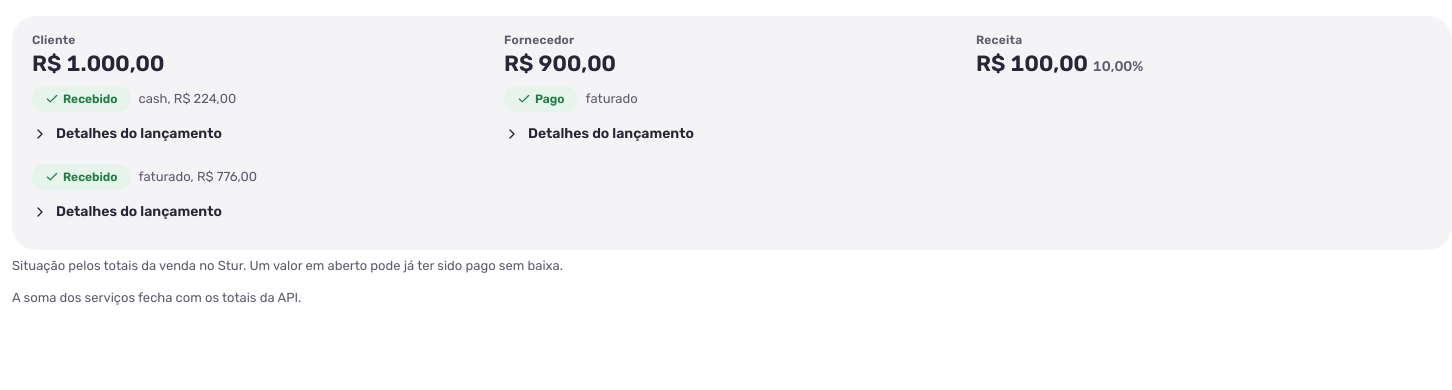
it: lançamentos › os detalhes não repetem o que a linha já mostra
Click the heading "Detalhes do lançamento" below "cash, R$ 224,00" at [127, 134], box x1=32 y1=125 x2=222 y2=142
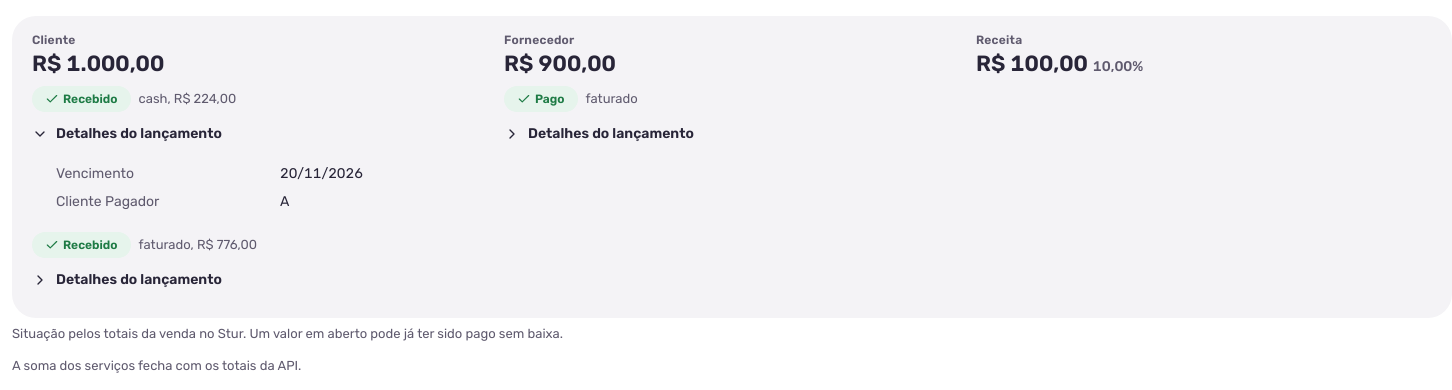
Check: the text "A" is shown, box x1=280 y1=193 x2=289 y2=210
